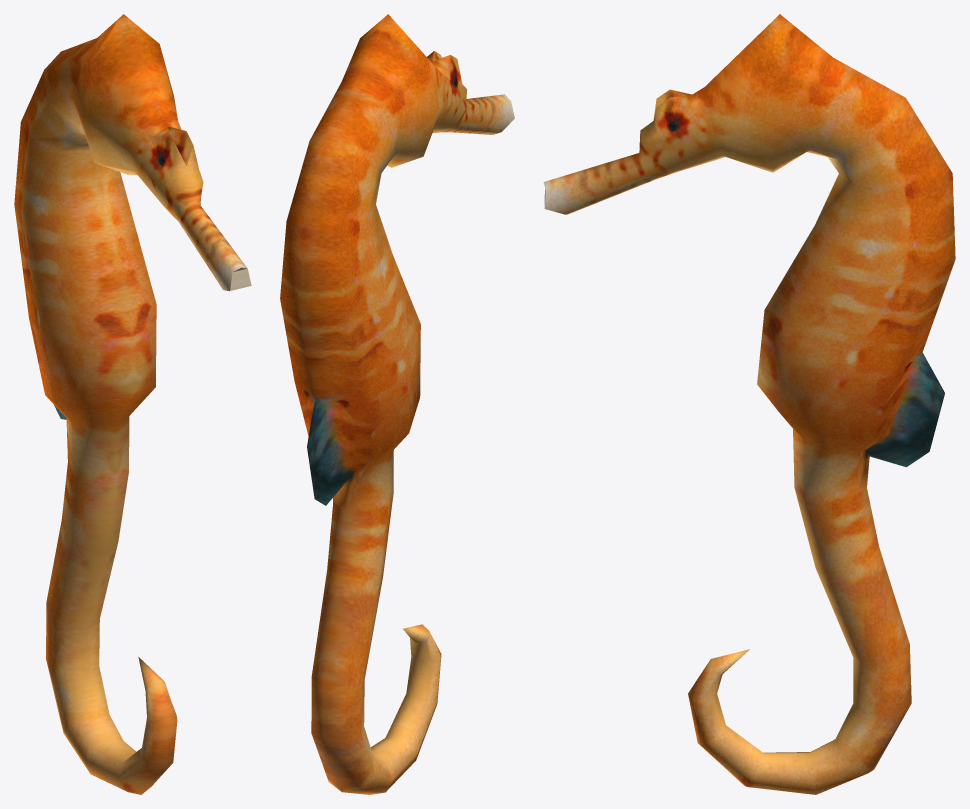
The model's file is seahorse.dae.
3 renders of one model, left to right at view 1: azimuth 30°, elevation 25°; view 2: azimuth 150°, elevation 25°; view 3: azimuth 270°, elevation 25°, orthographic.
Visible parts, largest first — view 1: Cylinder02; view 2: Cylinder02; view 3: Cylinder02.
Part boxes in pixels (x1,y1,x2,y2): Cylinder02: [14, 14, 251, 794]; Cylinder02: [280, 14, 514, 794]; Cylinder02: [543, 14, 955, 794].
Size of the model in its own units: 0.9246 by 3.18 by 6.63.
1 material, 1 textured.
